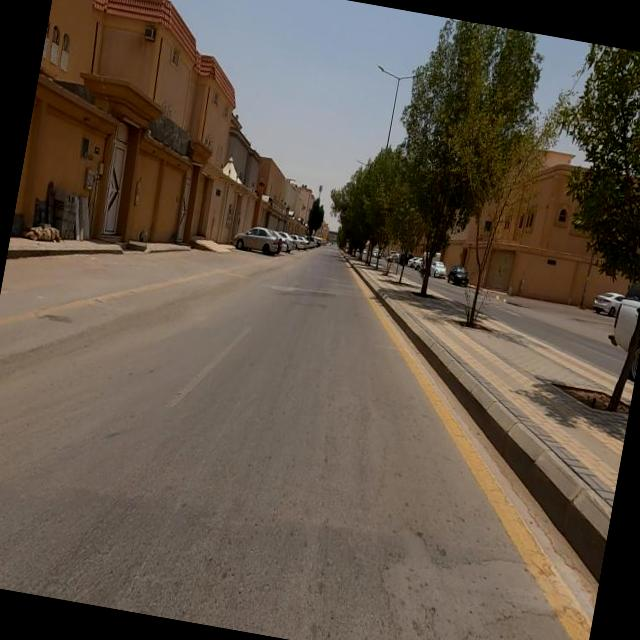debris: (5, 174, 99, 280)
